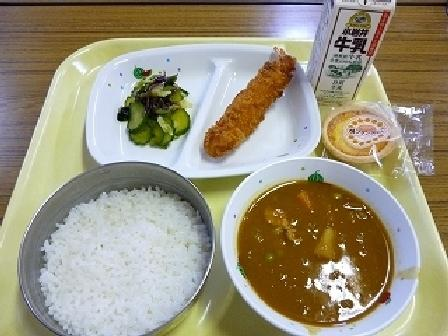Cup desserts: (309, 94, 406, 168)
Curry: (224, 164, 423, 328)
Milk: (300, 1, 410, 101)
Rice: (17, 163, 213, 333)
Salad: (98, 67, 189, 149)
fried cheese: (199, 42, 306, 163)
